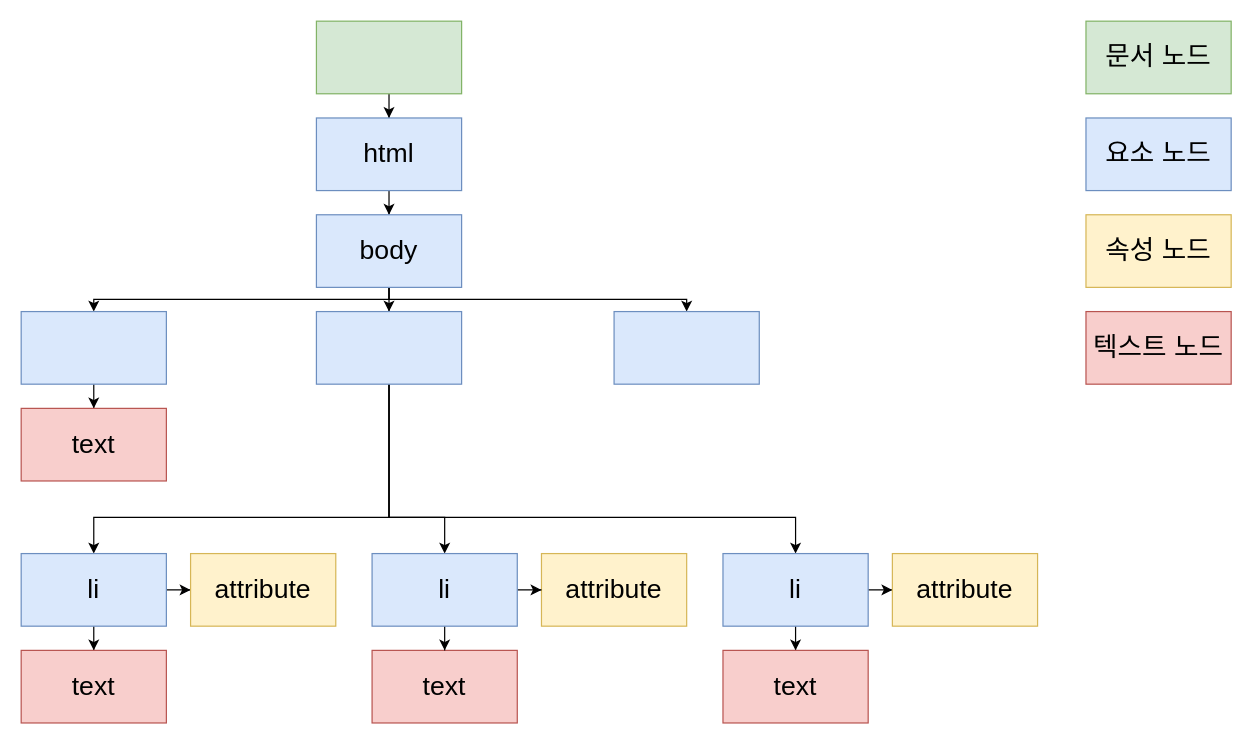
This 1252x744 diagram has some shape labels left out. Here are the shapes that lost their labels. From the top down, the centre of each, then its label:
At (x=388, y=57): "Document".
At (x=93, y=347): "h1".
At (x=388, y=347): "ul".
At (x=686, y=347): "div".
